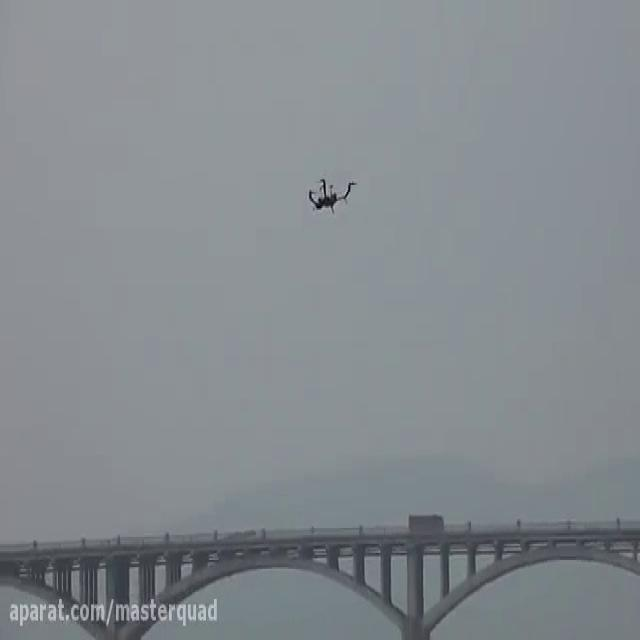drone: (303, 169, 360, 217)
